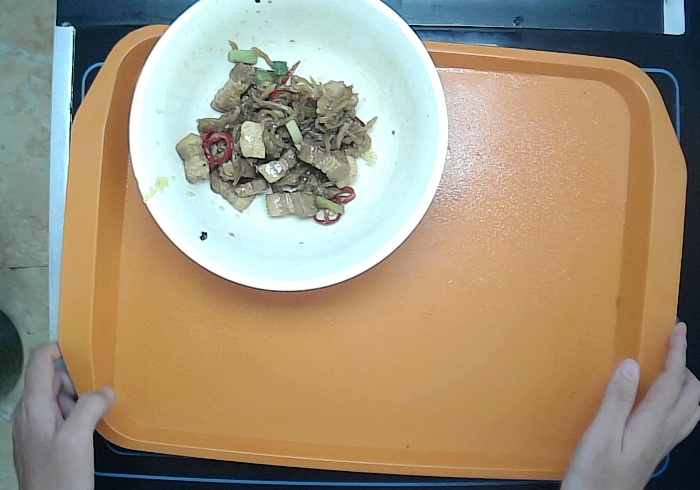ZNLD-Da_Tang_Wan: (122, 1, 452, 298)
